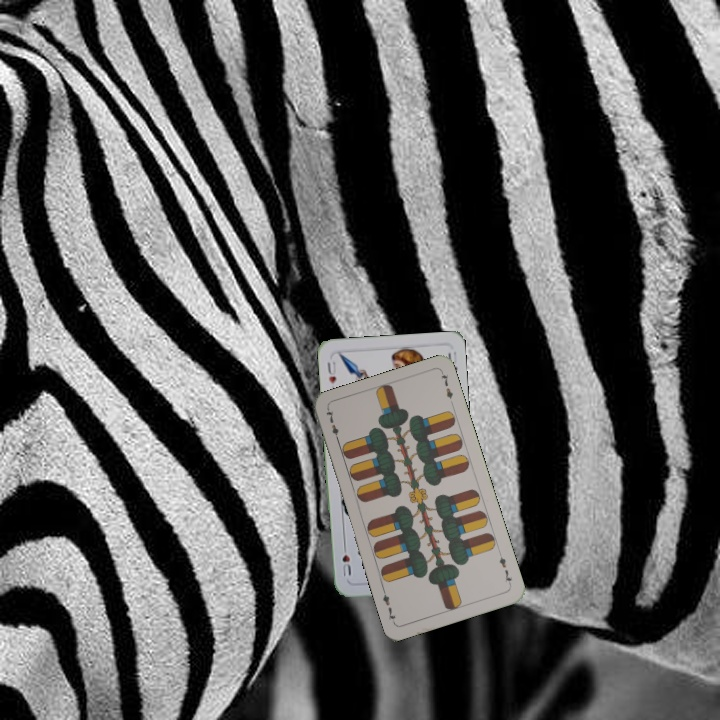E7: (495, 548, 515, 588), (322, 406, 342, 445)
HU: (323, 357, 338, 387)
